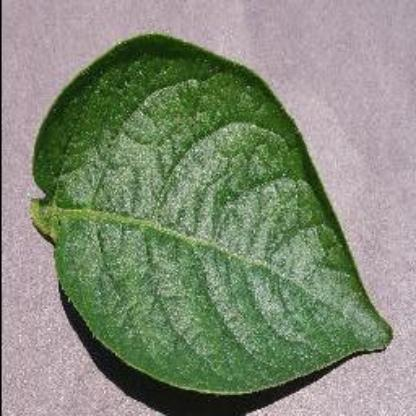Healthy-plant: (34, 29, 406, 401)
